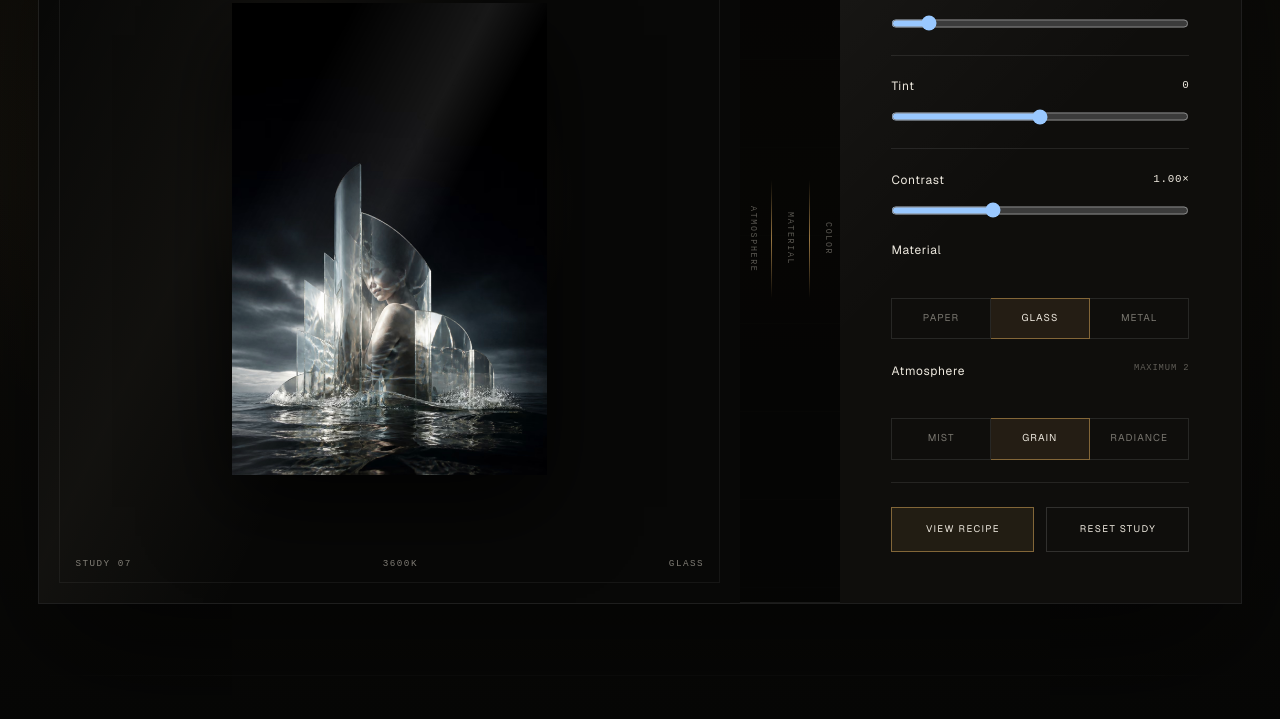
Scenario: VisualLaboratory › binds atmosphere controls to the rendered study state
(page scrolled)
Click the checkbox labelled "mist" at [941, 439], box x1=891 y1=418 x2=991 y2=460
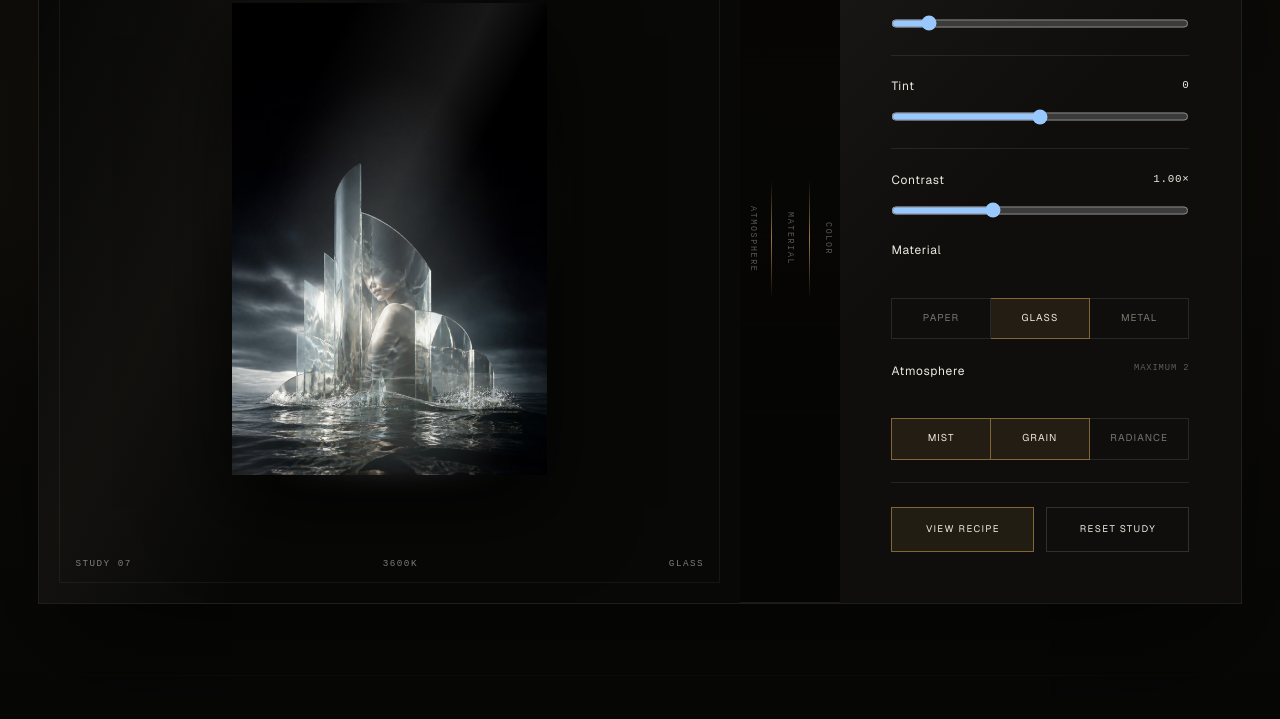
Click the checkbox labelled "radiance" at [1140, 439], box x1=1090 y1=418 x2=1189 y2=460
(page scrolled)
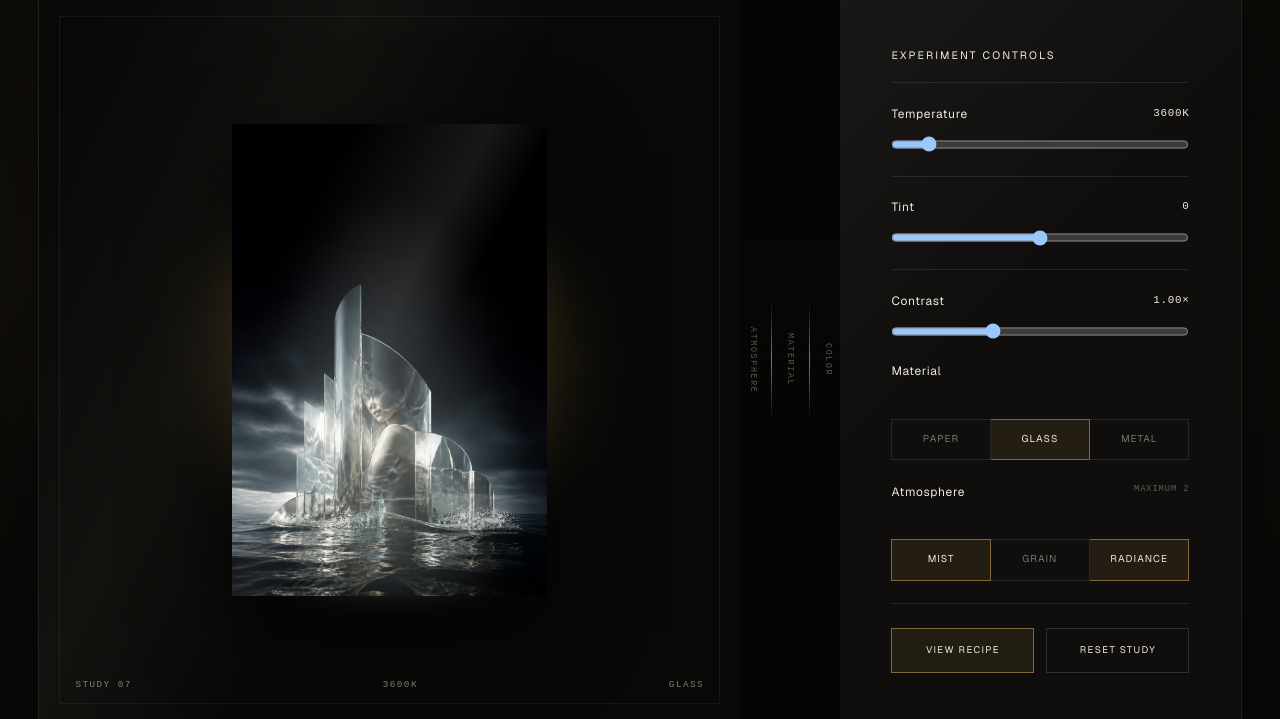
expect the checkbox labelled "grain" is not checked: met, box x1=991 y1=539 x2=1090 y2=581
